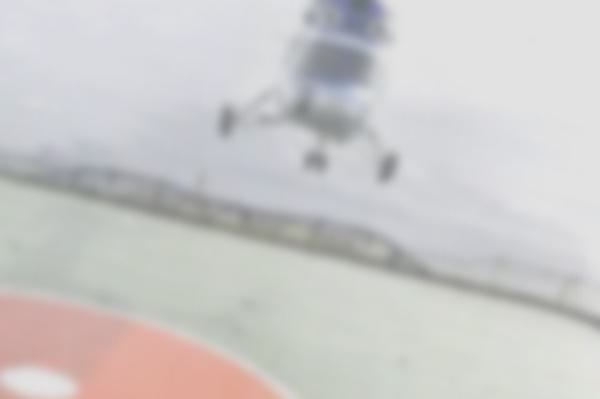Apron: (1, 285, 303, 397)
